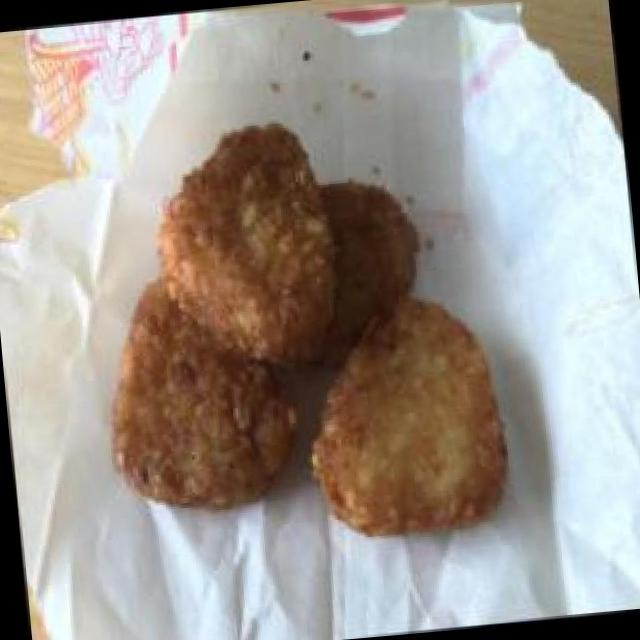triangle_hash_brown: (78, 97, 520, 569)
